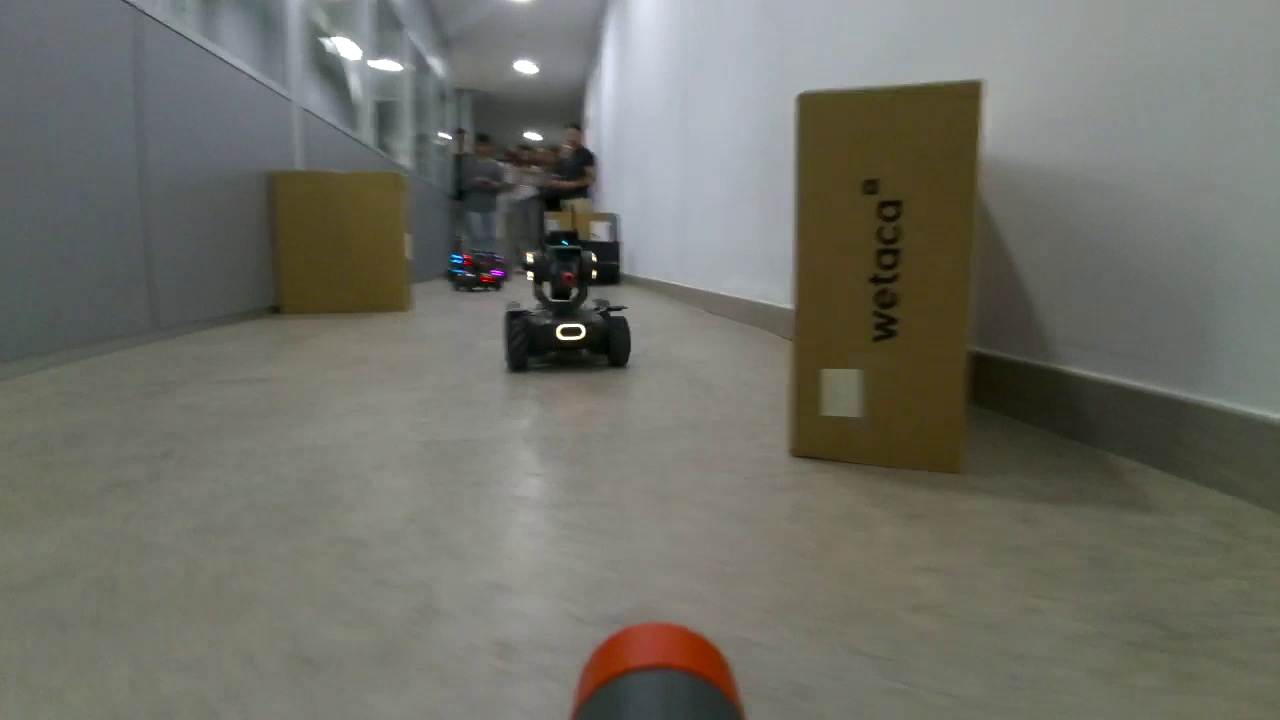robot: (498, 224, 635, 376)
